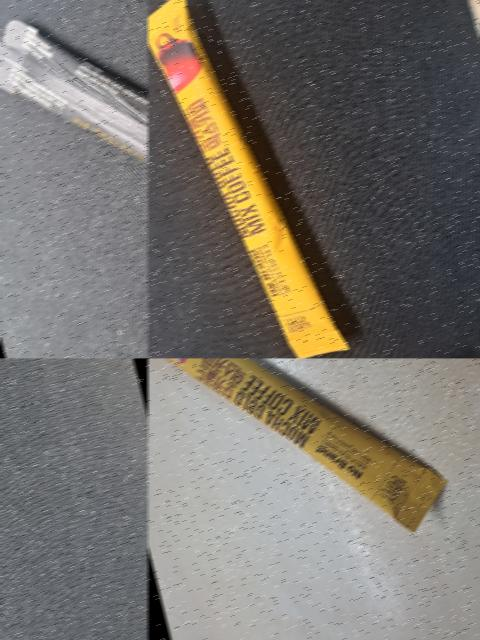espresso_mini: (0, 0, 148, 351)
mix_coffee: (148, 358, 469, 611), (148, 0, 358, 358)
